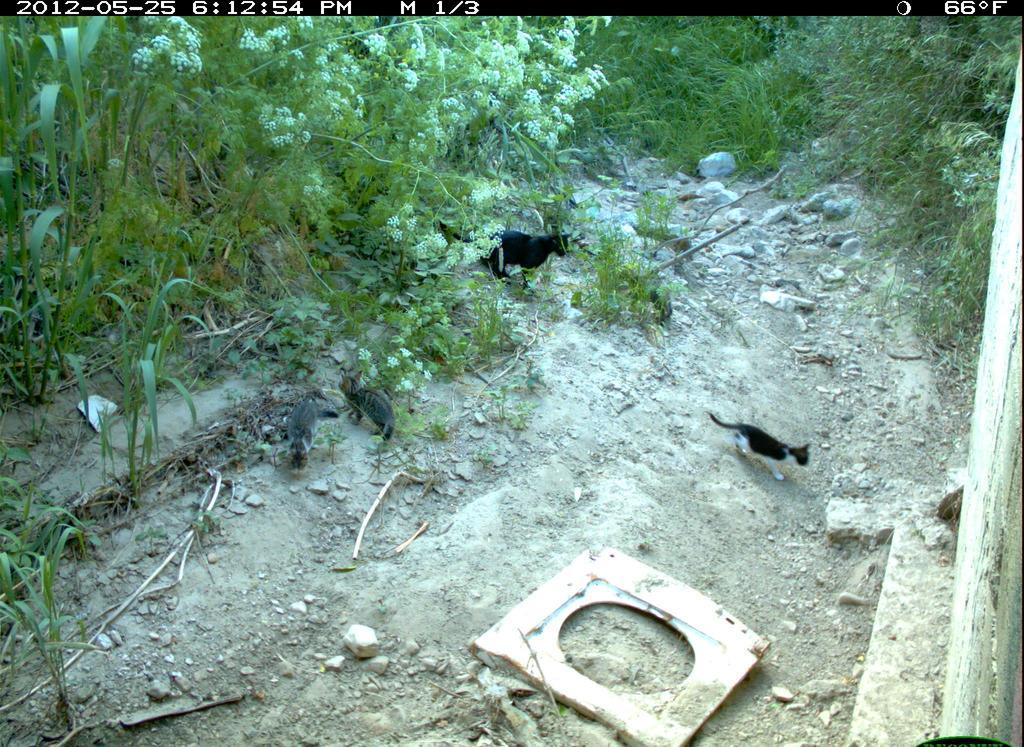cat: (438, 212, 579, 291), (702, 405, 817, 488), (332, 365, 418, 446), (273, 395, 335, 473)
